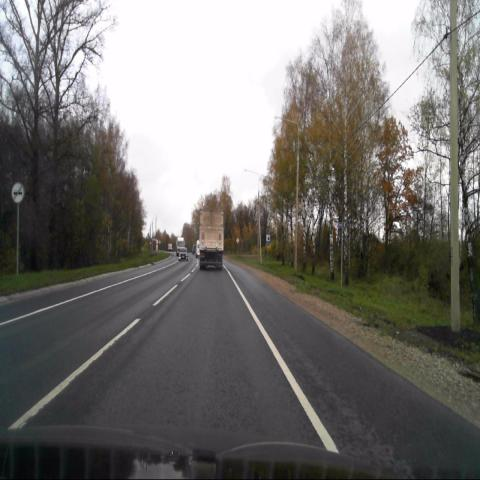3_21: (12, 182, 24, 204)
